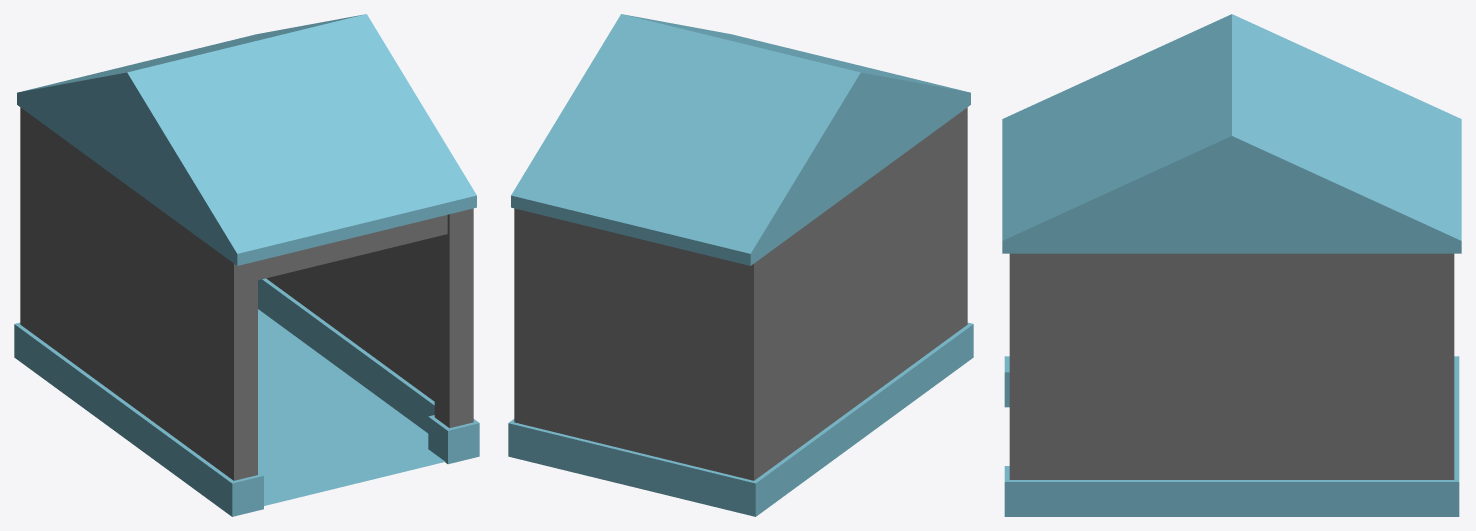
Rendered from Garage.fbx.
3 views of the same model, side by side, from view 1: azimuth 30°, elevation 25°; view 2: azimuth 150°, elevation 25°; view 3: azimuth 270°, elevation 25° (orthographic). The views are drawn at different scales.
Visible parts, largest first — view 1: Garage; view 2: Garage; view 3: Garage.
Boxes of the visible parts, <box> form: Garage: <box>14,14,479,516</box>; Garage: <box>508,14,973,516</box>; Garage: <box>1002,14,1461,516</box>.
Size of the model in its own units: 620 by 870 by 955.
